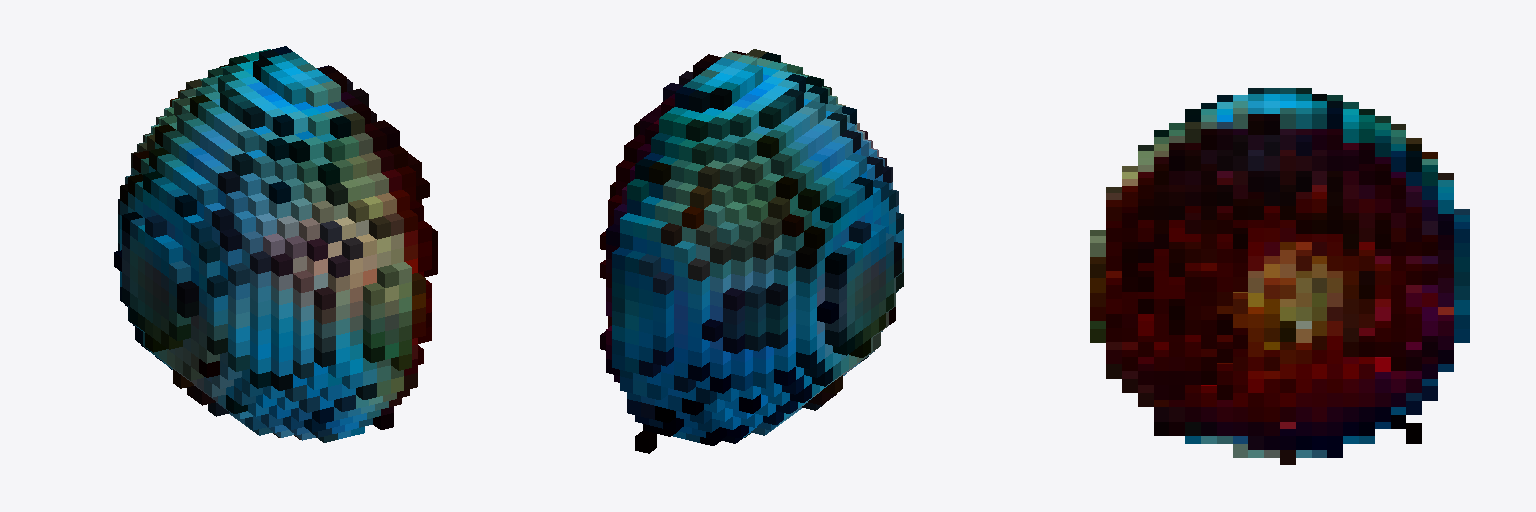
Rendered from regen_iter_5.obj.
The picture shows the model from 3 angles: view 1: azimuth 30°, elevation 25°; view 2: azimuth 150°, elevation 25°; view 3: azimuth 270°, elevation 25°; orthographic projection.
Visible parts, largest first — view 1: regen_iter_5; view 2: regen_iter_5; view 3: regen_iter_5.
Part boxes in pixels (x1,y1,x2,y2): regen_iter_5: (114,46,437,442); regen_iter_5: (600,49,903,453); regen_iter_5: (1090,88,1469,464).
Bounding box in the file's own units: 1.5 × 2.4 × 2.4.